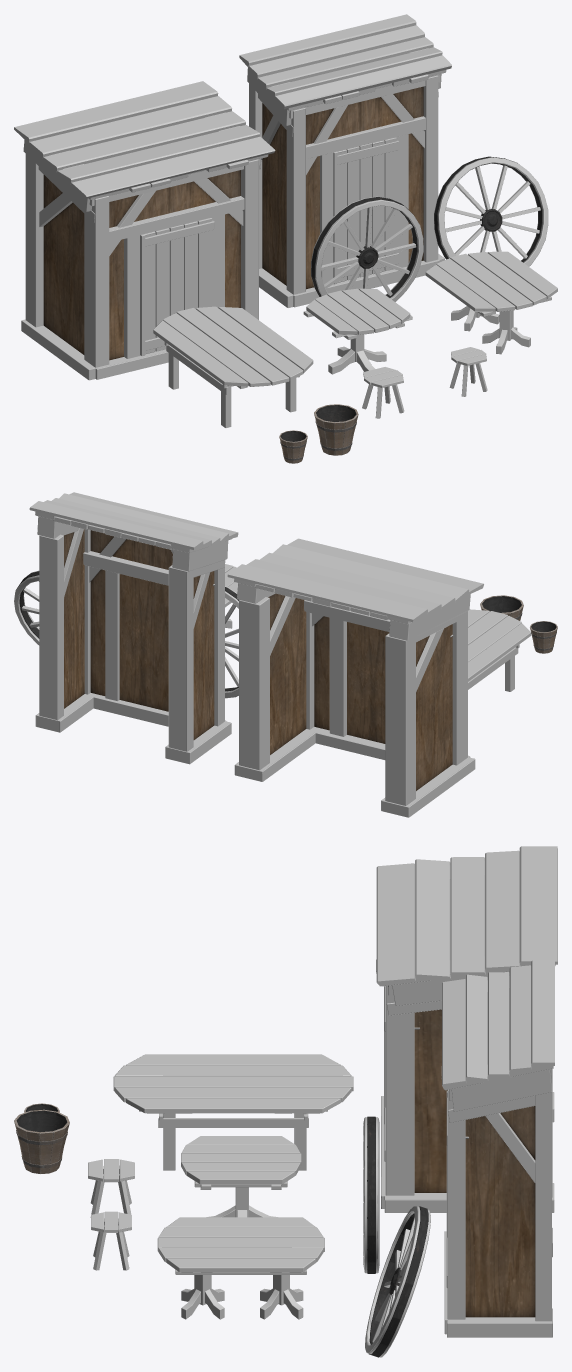
The model's file is Misc_Supply_1A1.fbx.
The picture shows the model from 3 angles, top to bottom: view 1: azimuth 30°, elevation 25°; view 2: azimuth 150°, elevation 25°; view 3: azimuth 270°, elevation 25°; orthographic projection. The views are drawn at different scales.
Visible parts, largest first — view 1: House_Shed_1A1, House_Shed_1A2, Table_1A3, Table_1A2, Cart_Wheel_1A1, Cart_Wheel_1A2, Table_1A1, Bucket_1A2, Stool_1A1, Stool_1A2, Bucket_1A1; view 2: House_Shed_1A1, House_Shed_1A2, Table_1A3, Cart_Wheel_1A2, Cart_Wheel_1A1, Bucket_1A2, Bucket_1A1; view 3: House_Shed_1A2, House_Shed_1A1, Table_1A3, Table_1A2, Table_1A1, Cart_Wheel_1A2, Bucket_1A2, Cart_Wheel_1A1, Stool_1A1, Stool_1A2.
Part boxes in pixels (box(x1,y1,x2,y2)): House_Shed_1A1: box(14, 81, 275, 380); House_Shed_1A2: box(239, 14, 451, 307); Table_1A3: box(153, 306, 313, 427); Table_1A2: box(425, 251, 557, 354); Cart_Wheel_1A1: box(311, 196, 423, 301); Cart_Wheel_1A2: box(434, 156, 548, 266); Table_1A1: box(303, 288, 412, 374); Bucket_1A2: box(314, 404, 358, 455); Stool_1A1: box(362, 367, 404, 418); Stool_1A2: box(449, 347, 487, 396); Bucket_1A1: box(279, 430, 307, 463); House_Shed_1A1: box(227, 538, 483, 817); House_Shed_1A2: box(29, 492, 238, 764); Table_1A3: box(468, 609, 530, 691); Cart_Wheel_1A2: box(14, 570, 39, 645); Cart_Wheel_1A1: box(225, 586, 238, 698); Bucket_1A2: box(480, 595, 523, 620); Bucket_1A1: box(530, 621, 557, 653); House_Shed_1A2: box(441, 960, 554, 1337); House_Shed_1A1: box(376, 846, 557, 1212); Table_1A3: box(113, 1054, 353, 1170); Table_1A2: box(157, 1217, 324, 1319); Table_1A1: box(181, 1136, 301, 1217); Cart_Wheel_1A2: box(365, 1206, 430, 1357); Bucket_1A2: box(14, 1109, 69, 1173); Cart_Wheel_1A1: box(363, 1116, 379, 1273); Stool_1A1: box(88, 1159, 134, 1217); Stool_1A2: box(91, 1211, 131, 1270).
Size of the model in its own units: 877 by 399 by 706.
